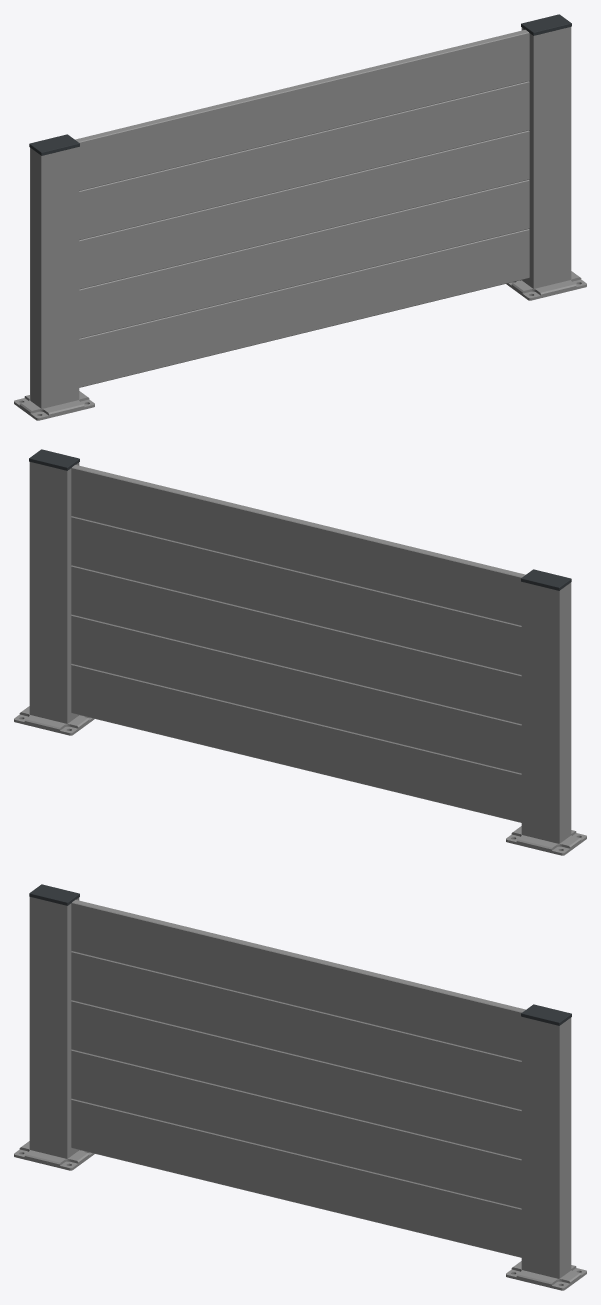
3 renders of one model, top to bottom at view 1: azimuth 30°, elevation 25°; view 2: azimuth 150°, elevation 25°; view 3: azimuth 330°, elevation 25°, orthographic.
Visible parts, largest first — view 1: Rectangle084, Rectangle077, Rectangle079, base020, base021, Box029, Box030; view 2: Rectangle084, Rectangle077, Rectangle079, base020, base021, Box029, Box030; view 3: Rectangle084, Rectangle079, Rectangle077, base021, base020, Box030, Box029.
Boxes of the visible parts, box(x1,y1,x2,y2) form: Rectangle084: box(75, 29, 529, 387); Rectangle077: box(30, 147, 79, 408); Rectangle079: box(521, 27, 571, 288); base020: box(14, 391, 94, 420); base021: box(506, 271, 586, 300); Box029: box(29, 134, 79, 155); Box030: box(521, 14, 571, 35); Rectangle084: box(71, 465, 525, 822); Rectangle077: box(521, 582, 571, 843); Rectangle079: box(29, 462, 79, 723); base020: box(506, 826, 586, 855); base021: box(14, 706, 94, 735); Box029: box(521, 569, 571, 590); Box030: box(29, 449, 79, 470); Rectangle084: box(71, 899, 525, 1257); Rectangle079: box(521, 1017, 571, 1278); Rectangle077: box(29, 897, 79, 1158); base021: box(506, 1261, 586, 1290); base020: box(14, 1141, 94, 1170); Box030: box(521, 1004, 571, 1025); Box029: box(29, 884, 79, 905).
Bounding box in the file's own units: 1171 × 532 × 90.02.
Materials: 2 (1 with a texture image).
